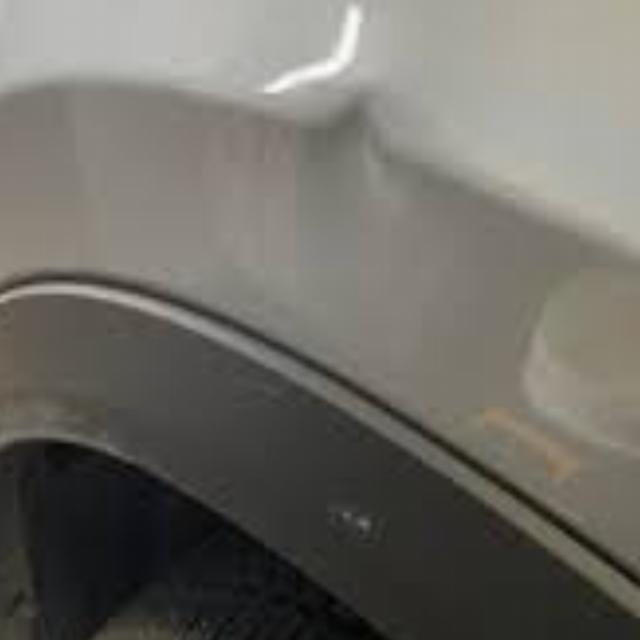dents: (274, 71, 441, 221)
